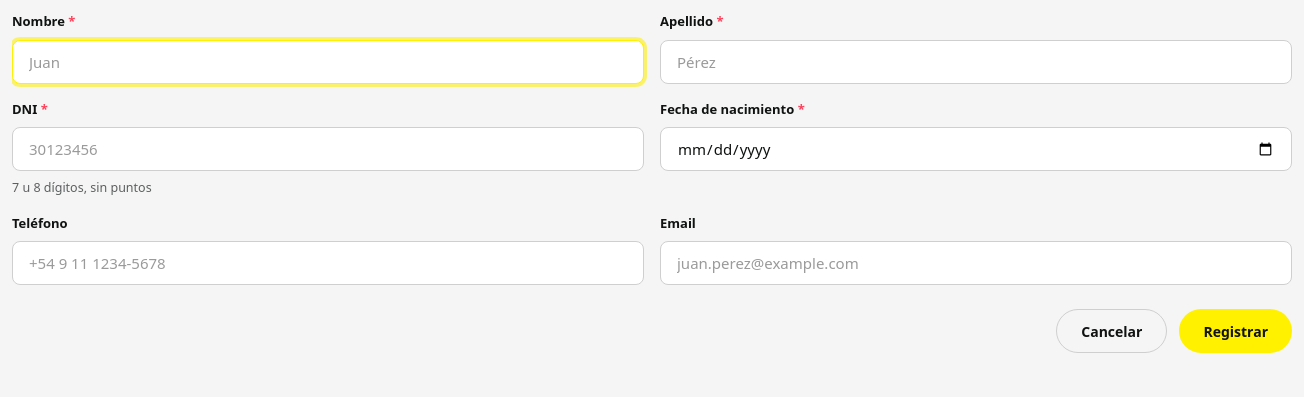
it: StudentForm › shows validation errors and blocks submit when fields are invalid
This screenshot has width=1304, height=397.
Type "123" into the field labelled "DNI *" at (328, 149), box [12,127,644,171]
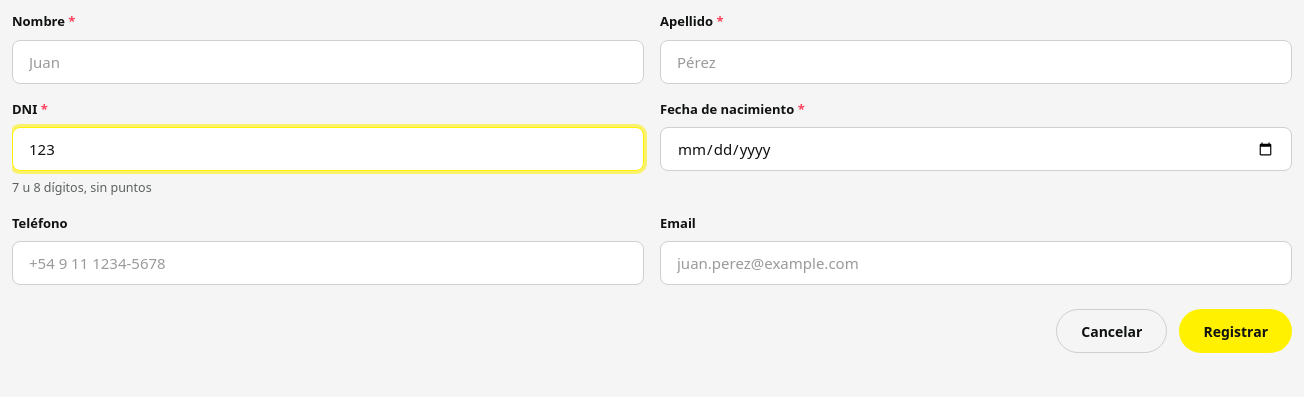
Click the button "Registrar" at (1236, 331), box [1179,309,1292,353]
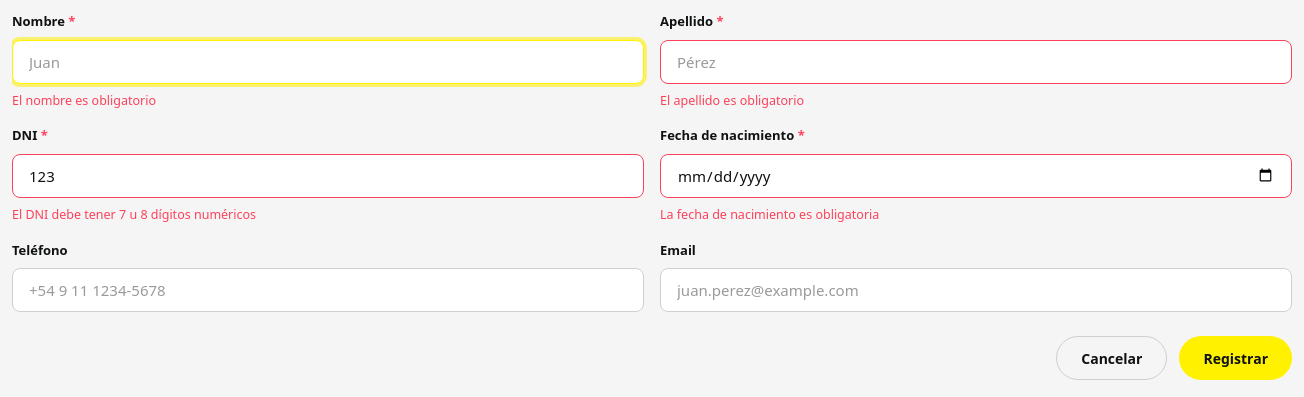
Expected: the text "El DNI debe tener 7 u 8 dígitos numéricos" is shown, [12,206,256,223]
